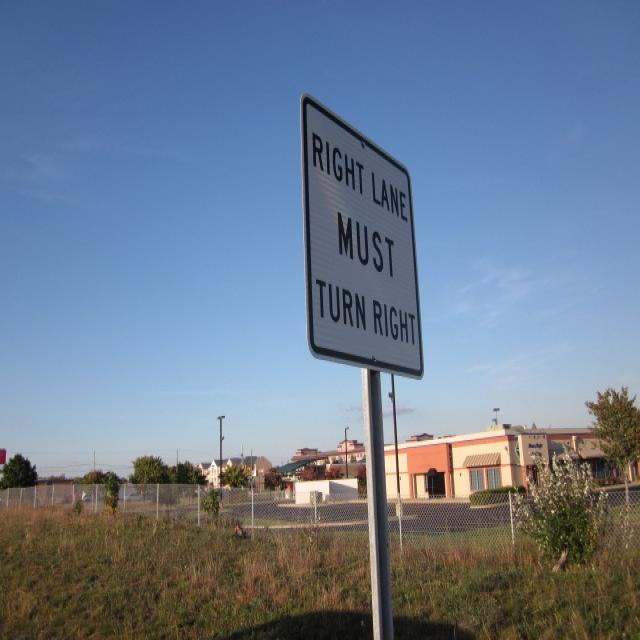regulatory: (298, 90, 428, 386)
